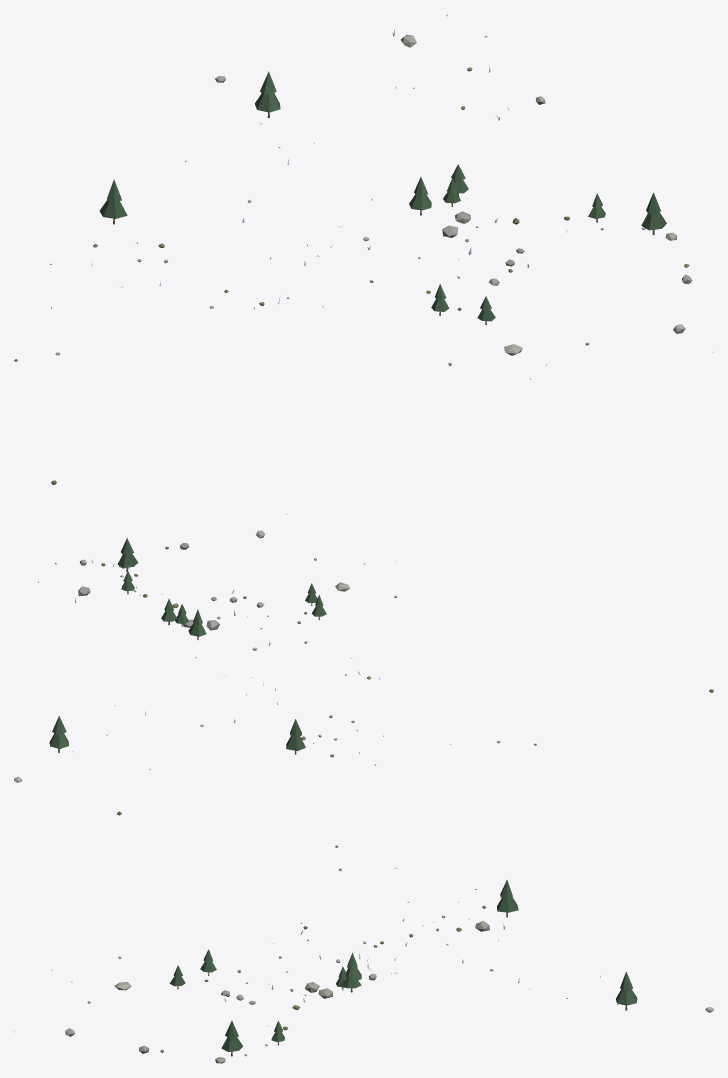
The model's file is coast_land_scatter_c09_18_lod1.glb.
3 renders of one model, top to bottom at view 1: azimuth 30°, elevation 25°; view 2: azimuth 150°, elevation 25°; view 3: azimuth 270°, elevation 25°, orthographic. The views are drawn at different scales.
Visible parts, largest first — view 1: coast_land_scatter_c09_18_lod1; view 2: coast_land_scatter_c09_18_lod1; view 3: coast_land_scatter_c09_18_lod1.
Boxes of the visible parts, box(x1,y1,x2,y2) form: coast_land_scatter_c09_18_lod1: box(14, 14, 713, 484); coast_land_scatter_c09_18_lod1: box(14, 513, 713, 782); coast_land_scatter_c09_18_lod1: box(14, 811, 713, 1063).
Bounding box in the file's own units: 238 × 52.87 × 251.
